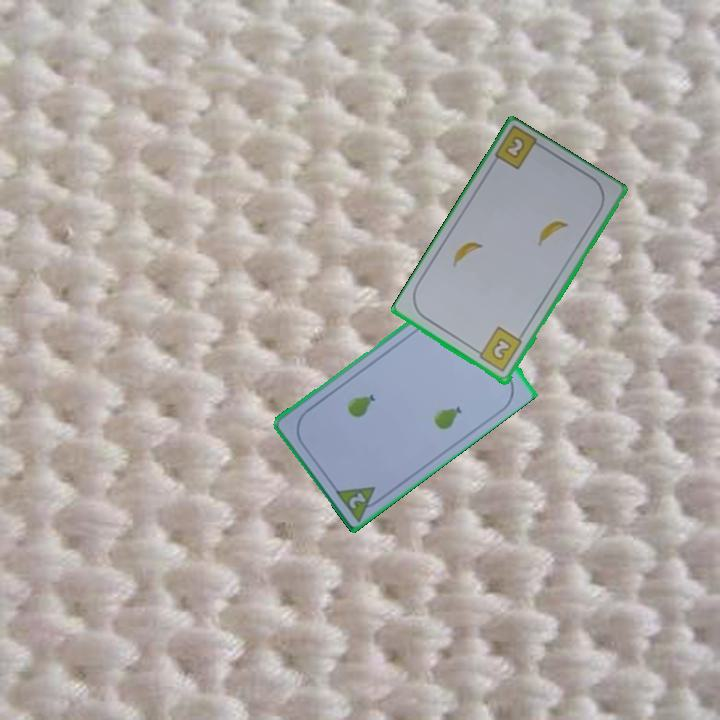2b: (471, 324, 525, 375), (503, 135, 526, 159)
2p: (331, 482, 387, 523)
